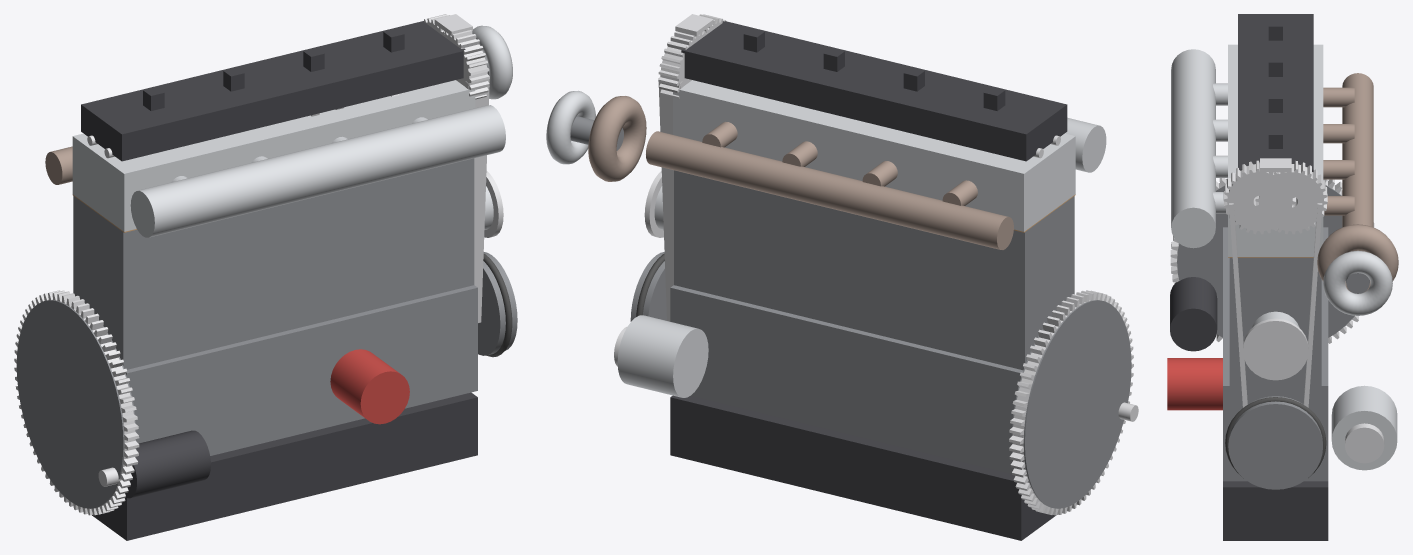
Rendered from combustion_4_linea_90p0_8p6_8p6_dohc_4_si_cadena_diesel.glb.
3 views of the same model, side by side, from view 1: azimuth 30°, elevation 25°; view 2: azimuth 150°, elevation 25°; view 3: azimuth 270°, elevation 25° (orthographic). The views are drawn at different scales.
Visible parts, largest first — view 1: bloque, tapa_valvulas_0, carter, volante_inercia, multiple_admision_0, culata_0, motor_arranque, filtro_aceite, polea_ciguenal, distribucion_correa, distribucion_poleas, turbo_0 (+2 smaller); view 2: bloque, carter, tapa_valvulas_0, culata_0, volante_inercia, multiple_escape_0, turbo_0, alternador, distribucion_correa, distribucion_poleas, polea_ciguenal, multiple_admision_0 (+1 smaller); view 3: bloque, tapa_valvulas_0, multiple_admision_0, polea_ciguenal, multiple_escape_0, carter, distribucion_poleas, turbo_0, culata_0, alternador, volante_inercia, bomba_agua (+7 smaller).
Boxes of the visible parts, bbox=[...] form: bloque: bbox=[73, 158, 477, 455]; tapa_valvulas_0: bbox=[81, 21, 465, 161]; carter: bbox=[92, 392, 477, 540]; volante_inercia: bbox=[14, 290, 139, 515]; multiple_admision_0: bbox=[130, 105, 505, 237]; culata_0: bbox=[72, 80, 475, 231]; motor_arranque: bbox=[98, 430, 210, 498]; filtro_aceite: bbox=[330, 349, 409, 424]; polea_ciguenal: bbox=[478, 252, 517, 357]; distribucion_correa: bbox=[434, 14, 489, 322]; distribucion_poleas: bbox=[422, 14, 489, 99]; turbo_0: bbox=[472, 25, 512, 99]; bloque: bbox=[670, 170, 1074, 473]; carter: bbox=[670, 395, 1057, 540]; tapa_valvulas_0: bbox=[681, 21, 1067, 161]; culata_0: bbox=[673, 80, 1075, 231]; volante_inercia: bbox=[1009, 290, 1133, 515]; multiple_escape_0: bbox=[646, 121, 1013, 249]; turbo_0: bbox=[546, 90, 646, 181]; alternador: bbox=[614, 315, 708, 397]; distribucion_correa: bbox=[658, 14, 713, 321]; distribucion_poleas: bbox=[658, 14, 725, 98]; polea_ciguenal: bbox=[630, 252, 666, 321]; multiple_admision_0: bbox=[1065, 117, 1106, 172]; bloque: bbox=[1223, 227, 1328, 481]; tapa_valvulas_0: bbox=[1238, 14, 1313, 171]; multiple_admision_0: bbox=[1171, 49, 1227, 248]; polea_ciguenal: bbox=[1225, 396, 1326, 489]; multiple_escape_0: bbox=[1323, 73, 1373, 250]; carter: bbox=[1223, 481, 1328, 540]; distribucion_poleas: bbox=[1223, 160, 1327, 234]; turbo_0: bbox=[1317, 224, 1398, 315]; culata_0: bbox=[1228, 44, 1323, 256]; alternador: bbox=[1331, 385, 1397, 470]; volante_inercia: bbox=[1170, 178, 1374, 343]; bomba_agua: bbox=[1243, 311, 1308, 380].
Bounding box in the file's own units: 67.68 × 55.38 × 30.27.
